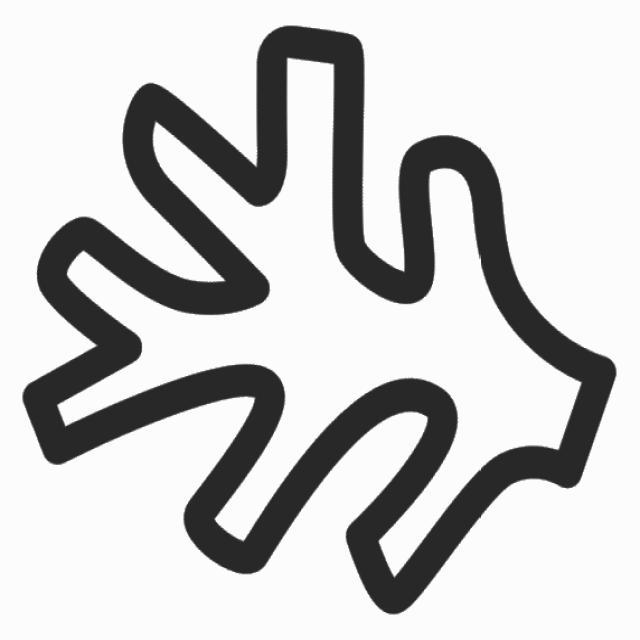coral: (8, 17, 631, 632)
